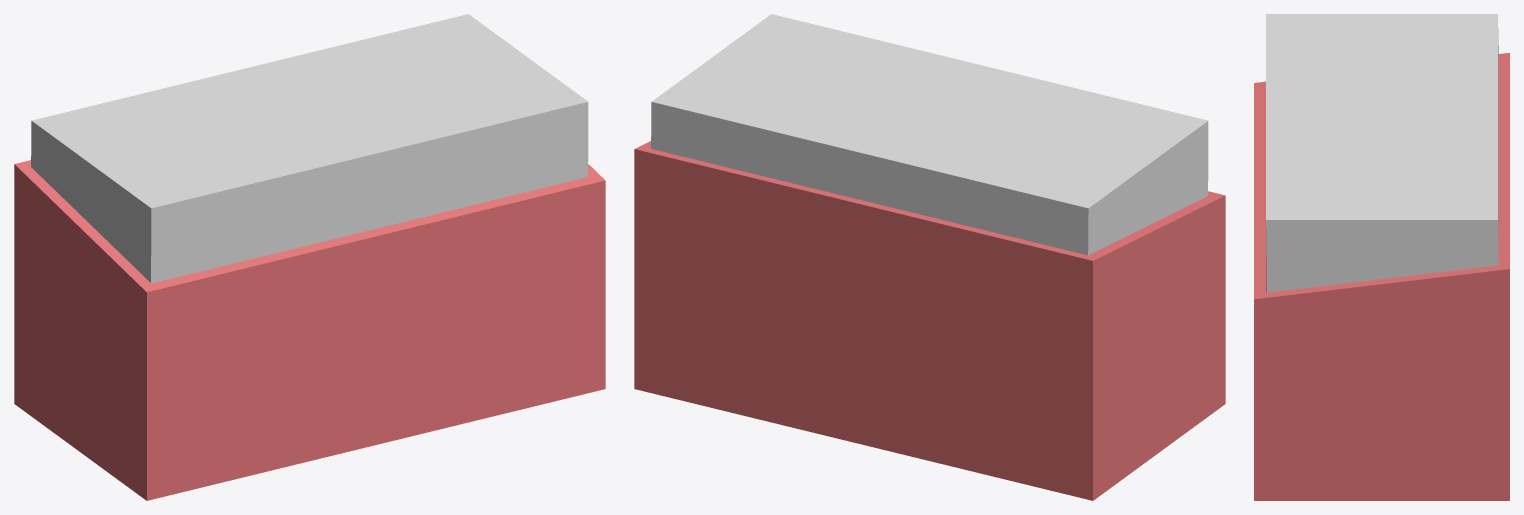
File: display_kaca_miring_panjang.fbx
3 renders of one model, left to right at view 1: azimuth 30°, elevation 25°; view 2: azimuth 150°, elevation 25°; view 3: azimuth 270°, elevation 25°, orthographic. The views are drawn at different scales.
Parts seen in each view (by area): view 1: display_kaca_miring_panjang; view 2: display_kaca_miring_panjang; view 3: display_kaca_miring_panjang.
Boxes of the visible parts, <box> form: display_kaca_miring_panjang: <box>14,14,605,500</box>; display_kaca_miring_panjang: <box>634,14,1225,500</box>; display_kaca_miring_panjang: <box>1254,14,1509,500</box>.
Bounding box in the file's own units: 100 × 59.45 × 50.
Materials: 2 (1 with a texture image).
